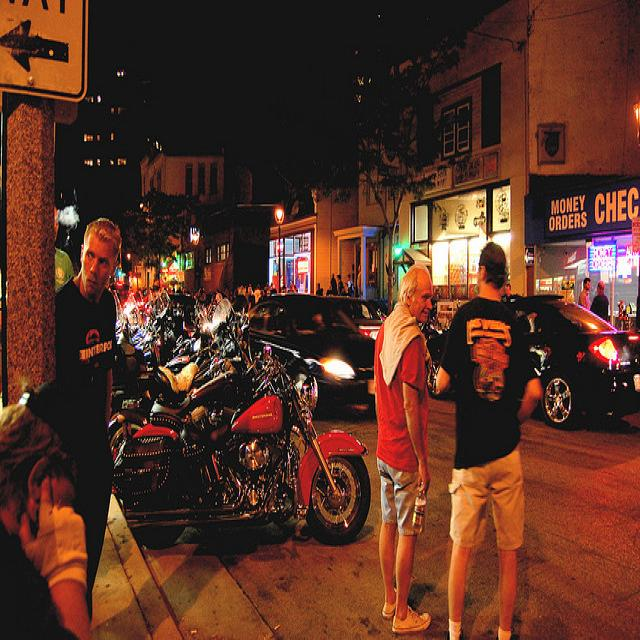motor: (112, 344, 376, 552), (109, 356, 253, 460), (156, 298, 246, 400), (166, 336, 215, 374), (160, 307, 174, 318)
